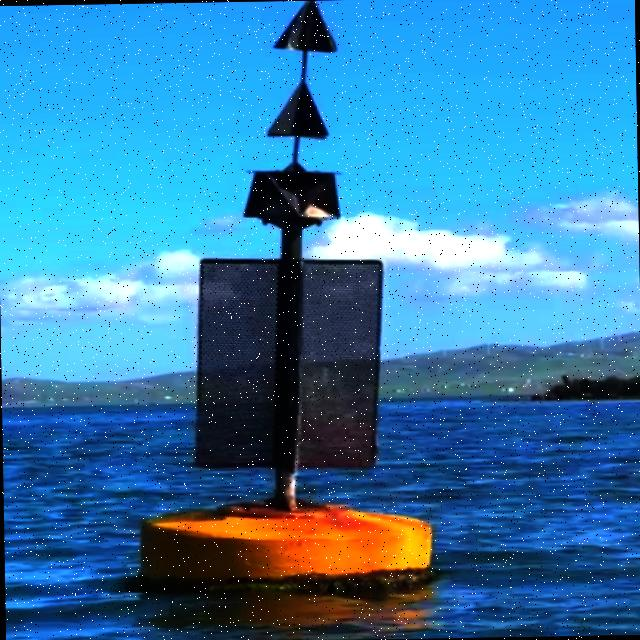marque: (122, 1, 438, 593)
